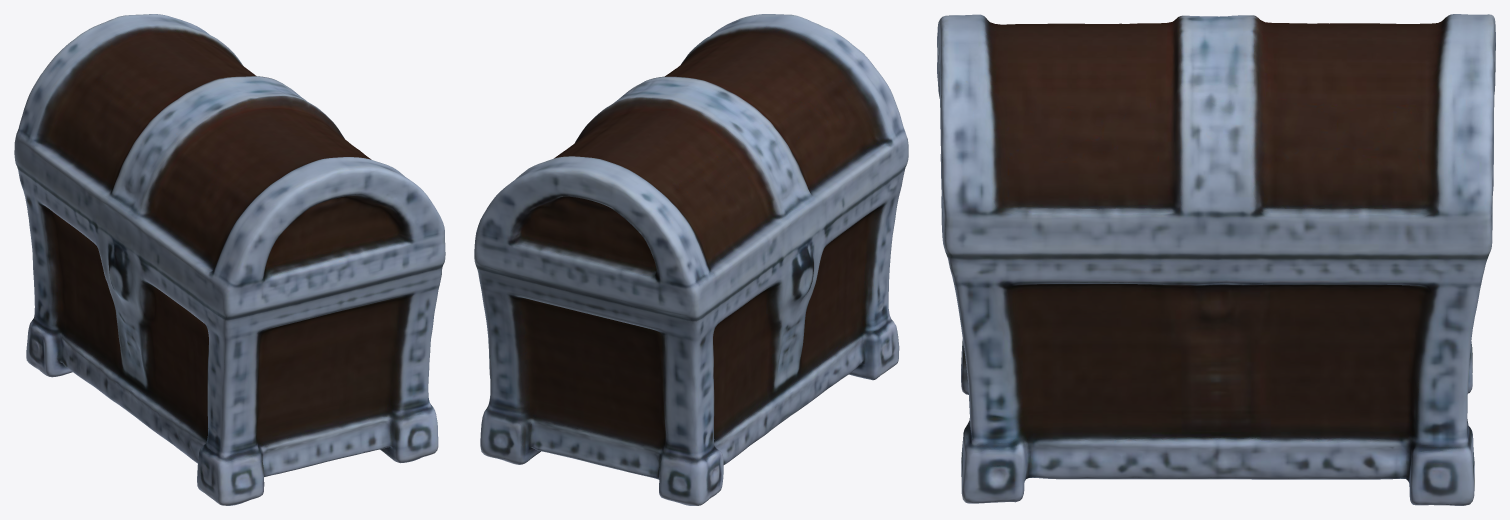
File: chest.glb
The picture shows the model from 3 angles, left to right: view 1: azimuth 30°, elevation 25°; view 2: azimuth 150°, elevation 25°; view 3: azimuth 270°, elevation 25°; orthographic projection. The views are drawn at different scales.
Visible parts, largest first — view 1: world; view 2: world; view 3: world.
Boxes of the visible parts, x1=… form: world: x1=14, y1=14, x2=445, y2=505; world: x1=474, y1=14, x2=908, y2=505; world: x1=937, y1=14, x2=1495, y2=505.
Size of the model in its own units: 0.2682 by 0.3617 by 0.4389.
Materials: 1 (1 with a texture image).
